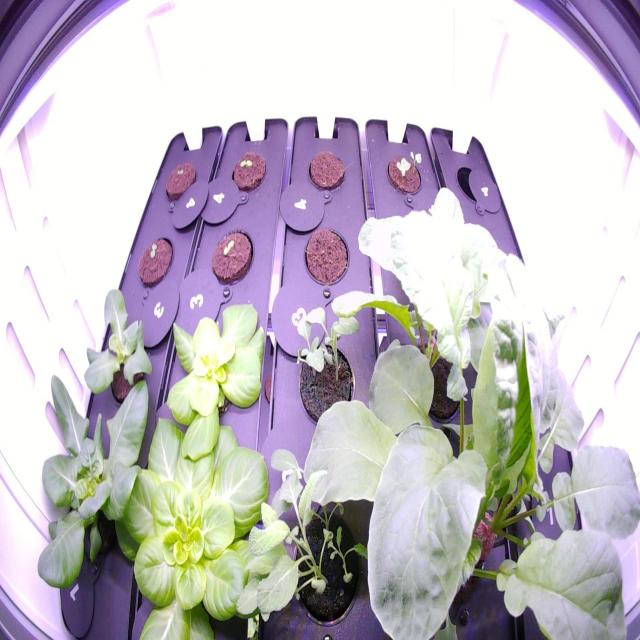empty_pod: (453, 154, 499, 213)
germination: (206, 218, 259, 292), (381, 137, 430, 205), (135, 228, 179, 301), (224, 142, 271, 198), (161, 150, 200, 208)
pod: (298, 218, 353, 295), (304, 140, 350, 199)
young: (99, 391, 291, 639), (25, 356, 182, 613), (158, 294, 278, 469), (70, 276, 162, 425)
